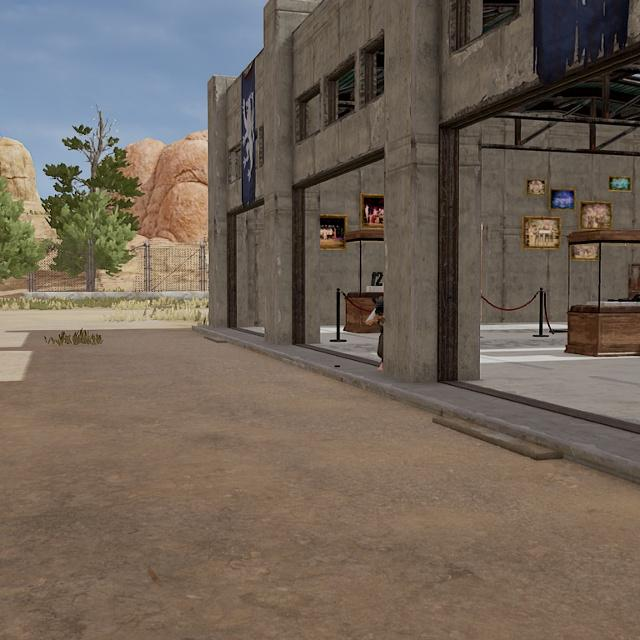head: (375, 294, 384, 316)
people: (364, 294, 385, 373)
